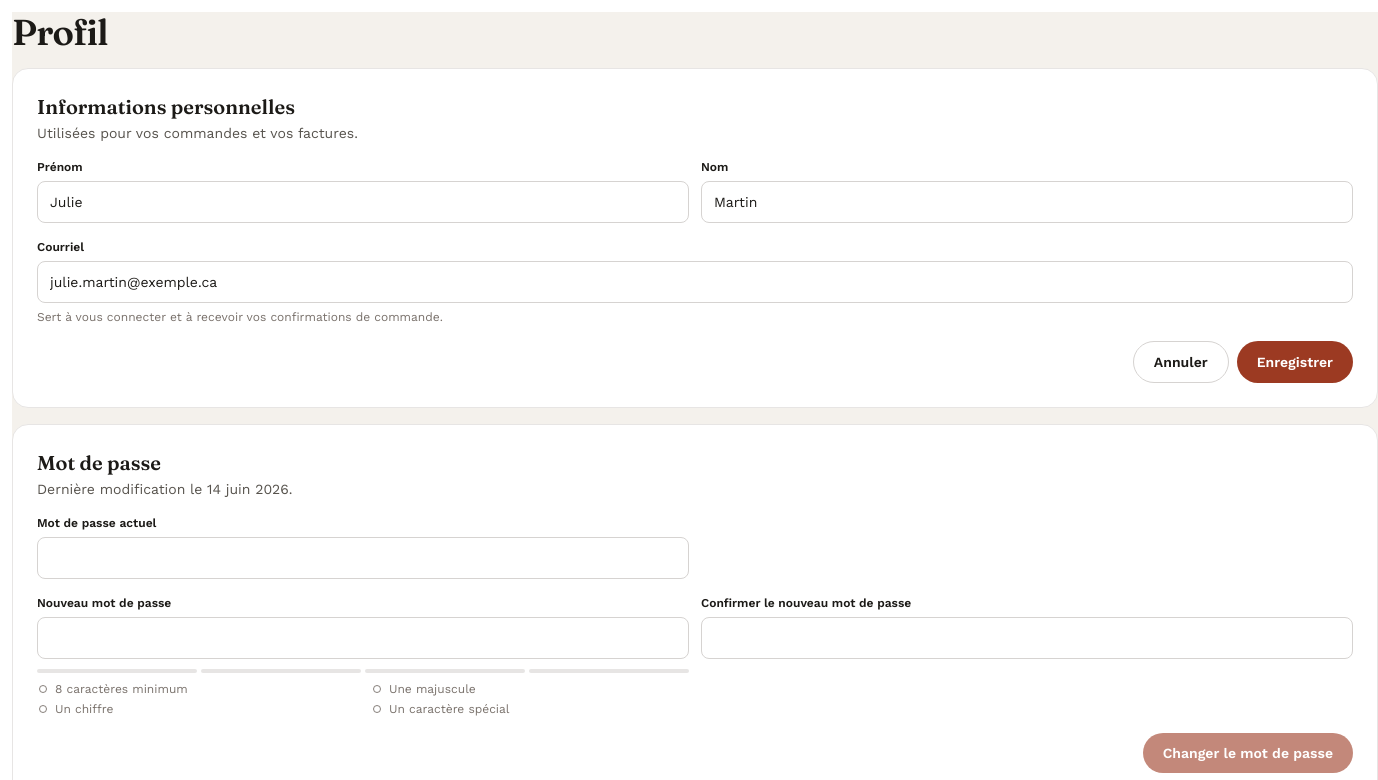
Test: ProfilPage › enables the password change only once the new password is valid and confirmed
Type "Ancien1!" into the password field labelled "Mot de passe actuel".
click(363, 558); type("Ancien1!")  # box [37,537,689,579]
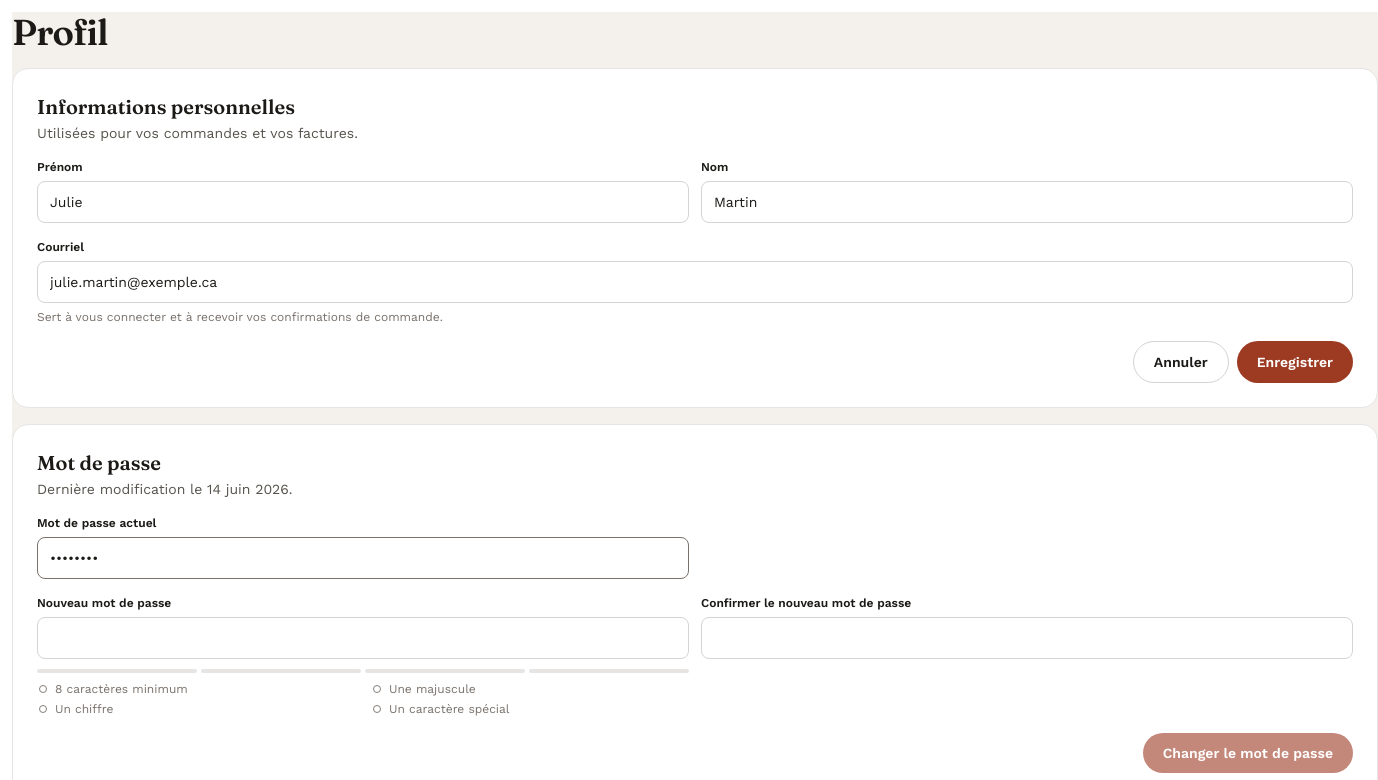
Type "Nouveau1!" into the password field labelled "Nouveau mot de passe".
click(363, 638); type("Nouveau1!")  # box [37,617,689,659]
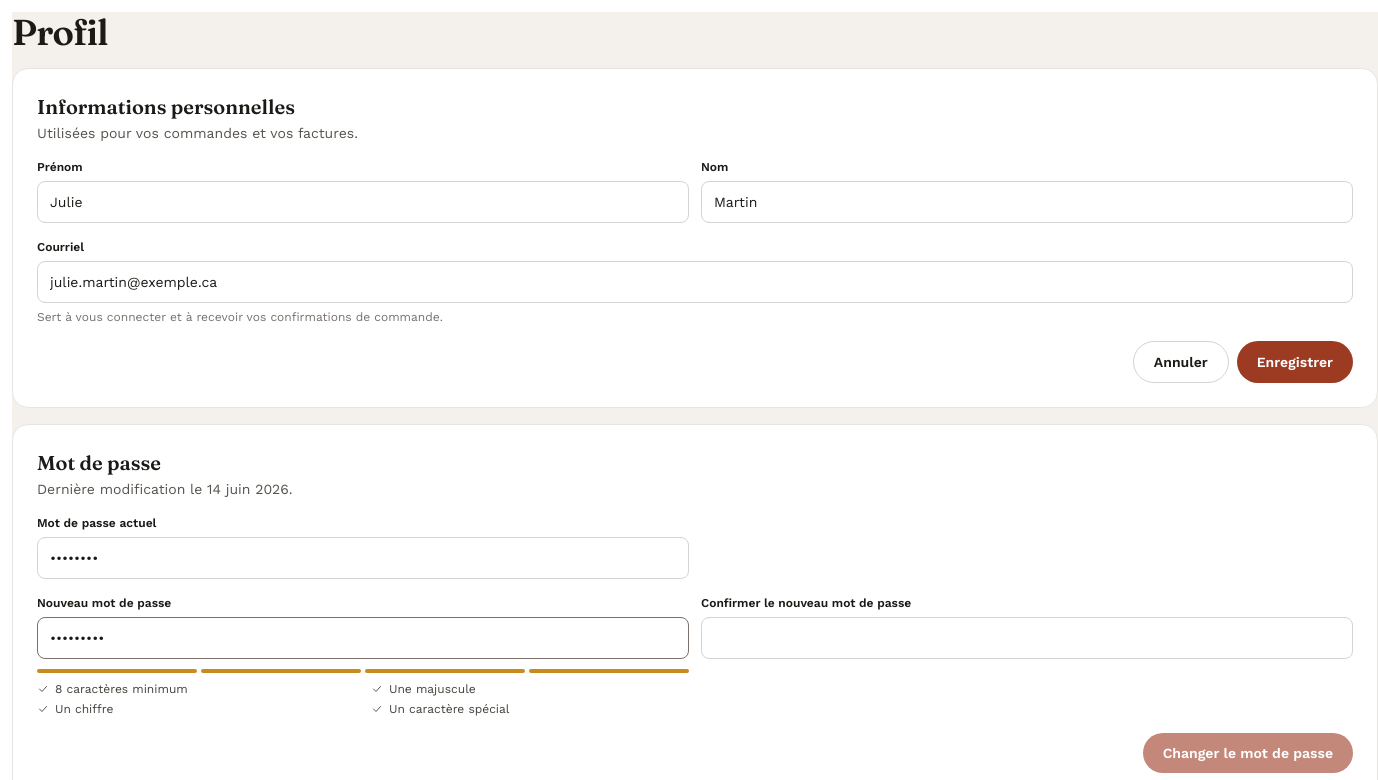
Type "Nouveau1" into the password field labelled "Confirmer le nouveau mot de passe".
click(1027, 638); type("Nouveau1")  # box [701,617,1353,659]
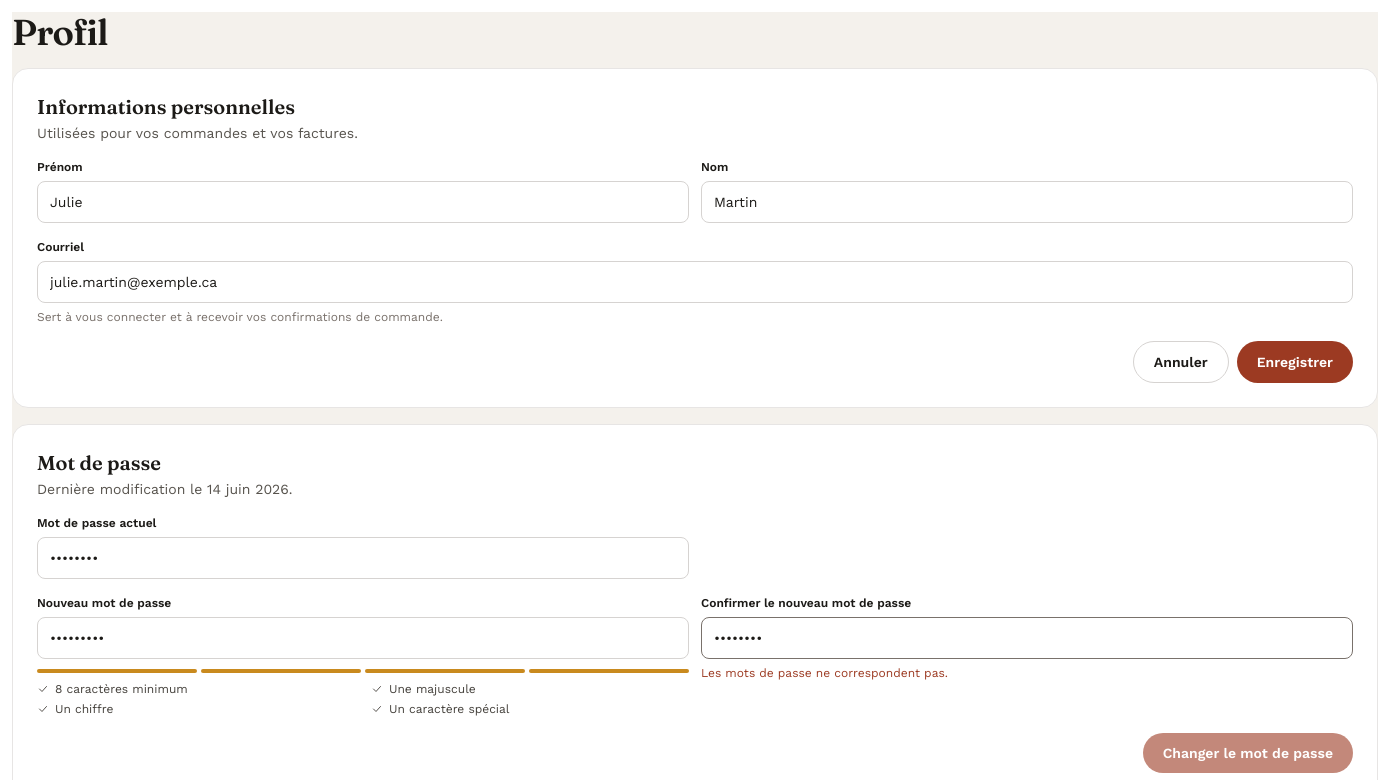
Expected: the button "Changer le mot de passe" is disabled, [1143,733,1353,773]
Expected: the text "Les mots de passe ne correspondent pas." is shown, [701,666,948,680]
Type "!" into the password field labelled "Confirmer le nouveau mot de passe".
click(1027, 638); type("!")  # box [701,617,1353,659]
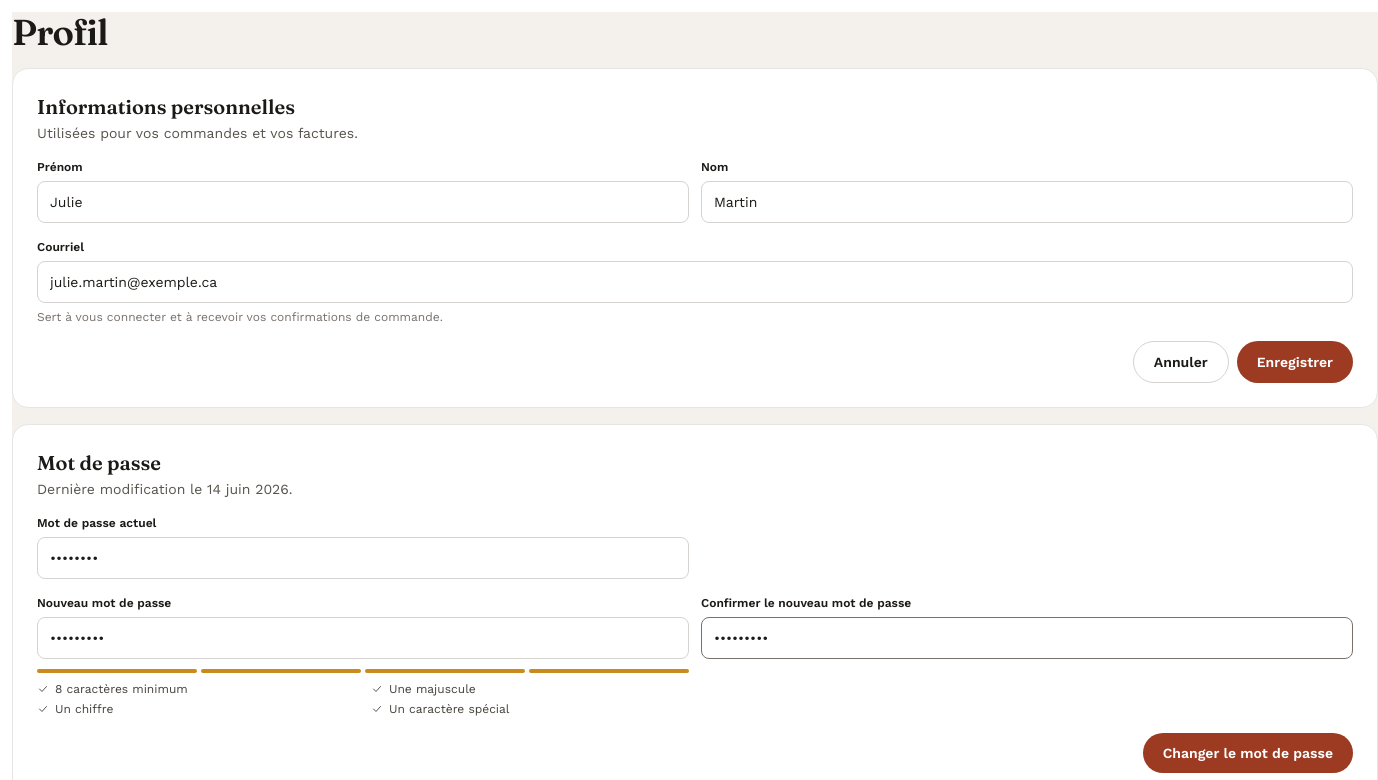
Expected: the button "Changer le mot de passe" is enabled
Click the button "Changer le mot de passe".
click(1248, 753)  # box [1143,733,1353,773]
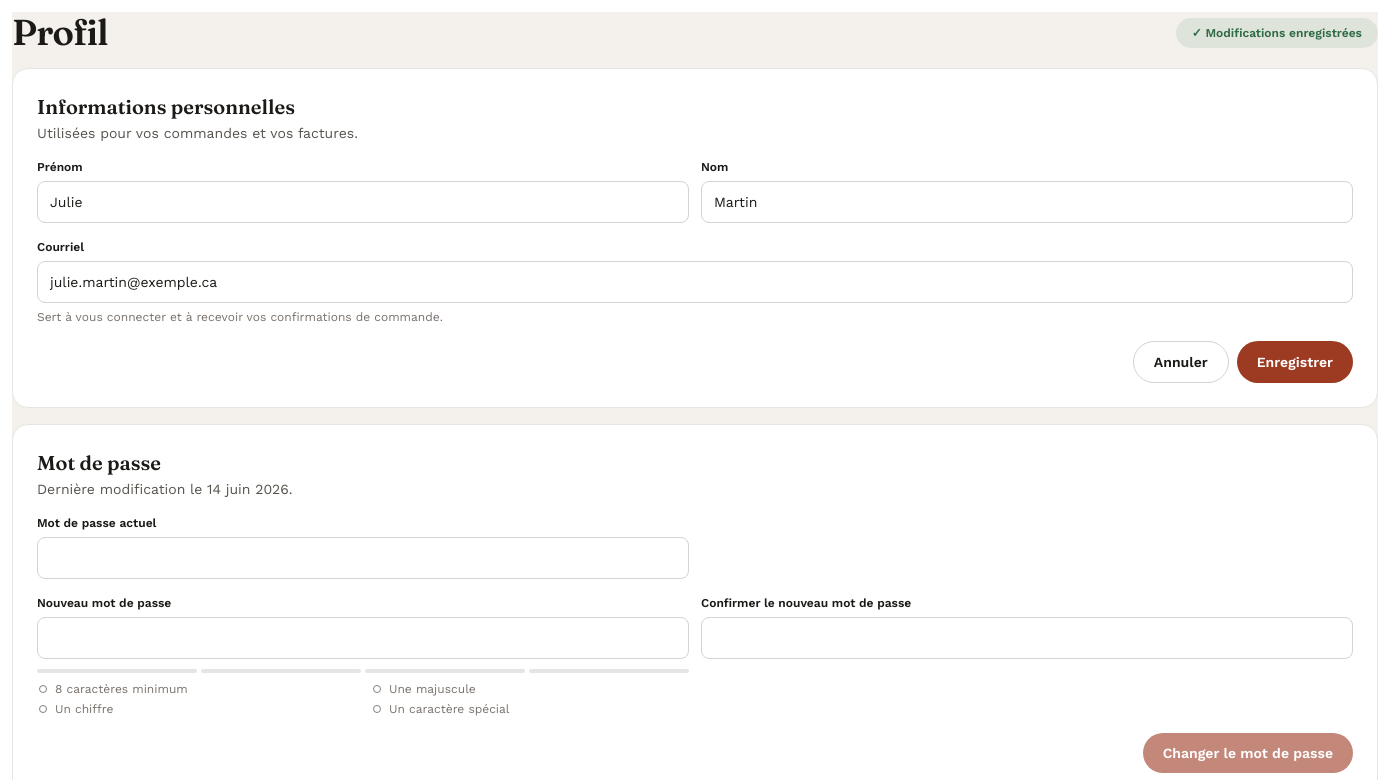
Expected: the message shows "Modifications enregistrées", [1192,26,1362,40]
